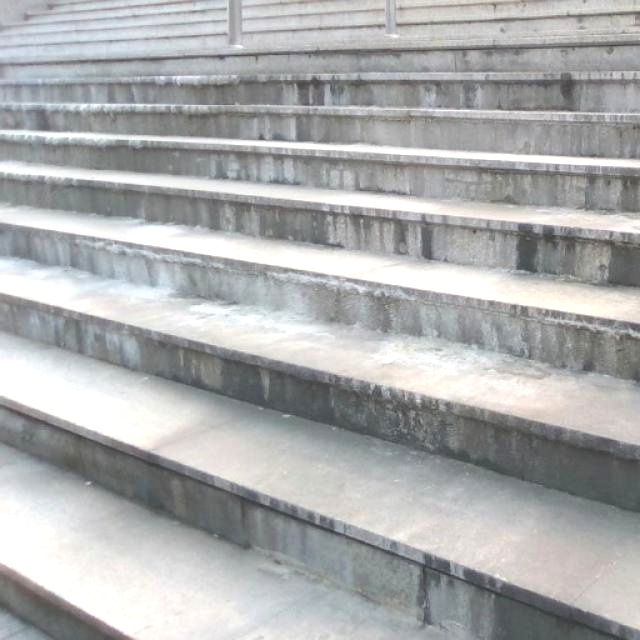stair: (0, 11, 628, 612)
